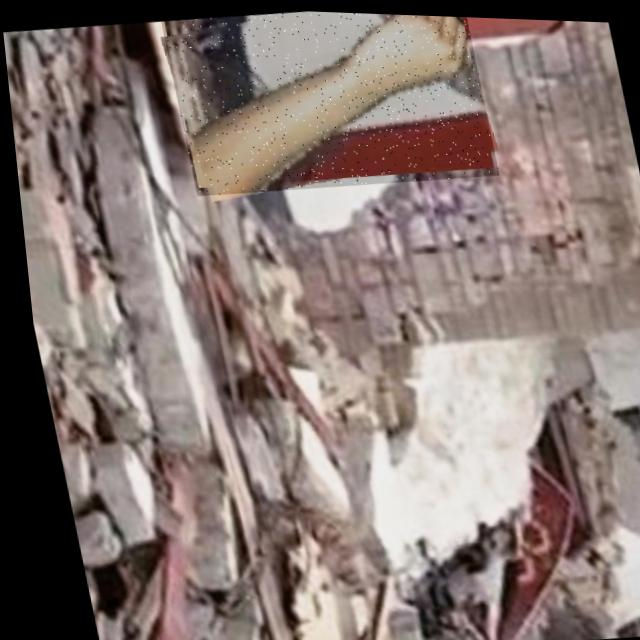Person in Rubble: (158, 5, 497, 203)
